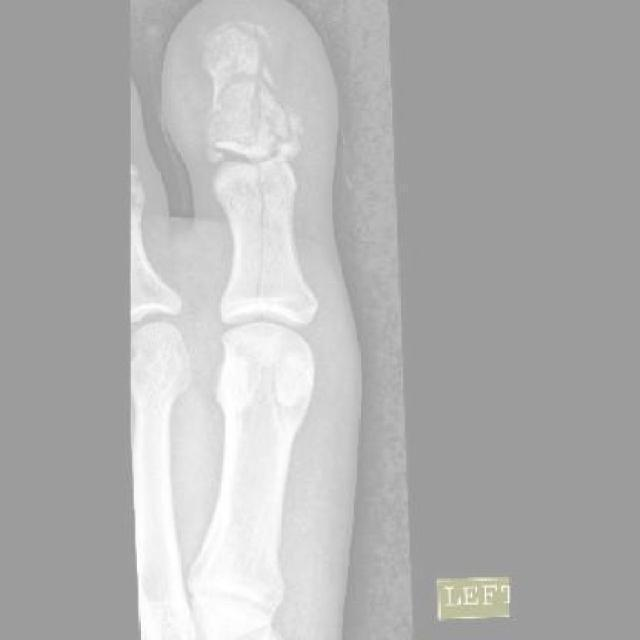Fracture: (194, 12, 305, 154)
